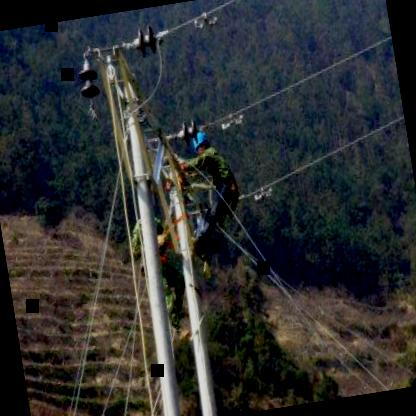helmet: (190, 126, 211, 156)
